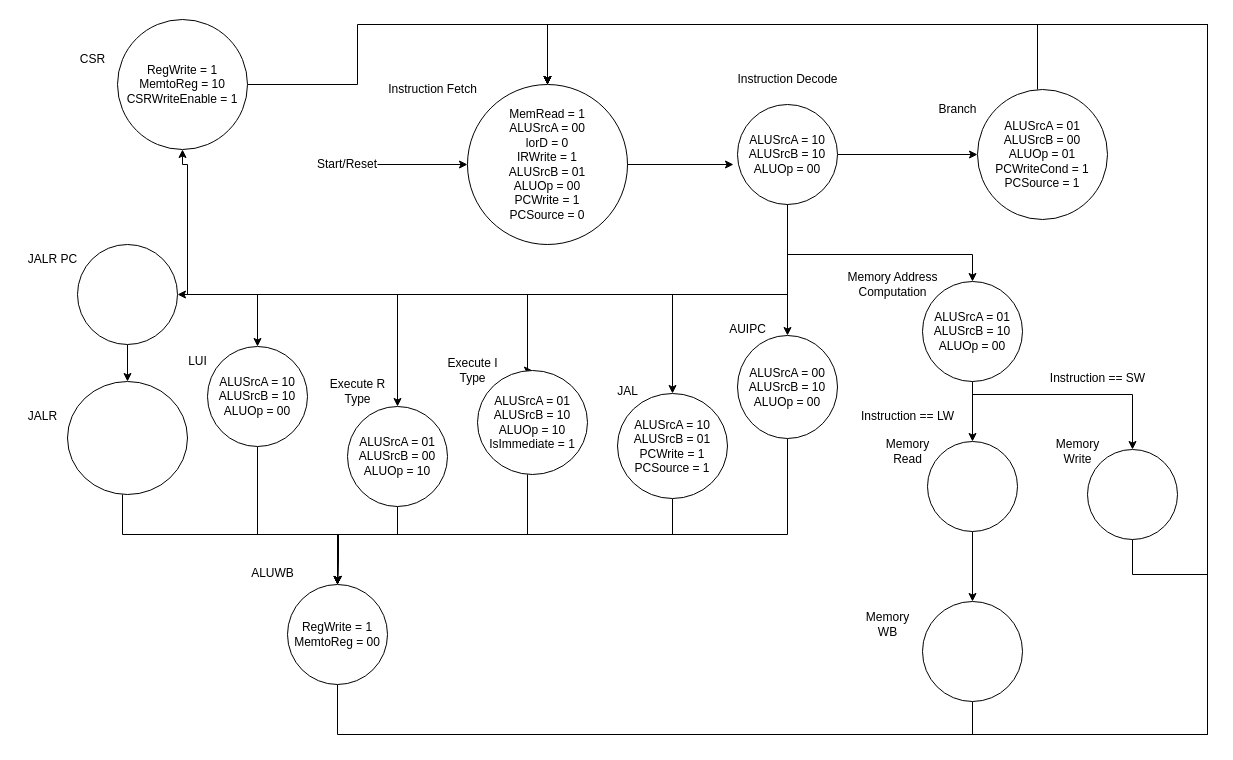
Image size: 1233x760. Some labels were removed from this diagram. The shapes that lost their labels are listed below. From the top down, each one's centre as x and y in pixels, then its label:
point (127, 294): ALUSrcA = 01 ALUSrcB = 10
point (127, 437): ALUSrcA = 10 ALUSrcB = 01 PCWrite = 1 PCSource = 1 IsImmediate = 1
point (972, 486): MemRead = 1 lorD = 1
point (1132, 494): MemWrite = 1 lorD = 1
point (972, 651): RegWrite = 1 MemtoReg = 01
